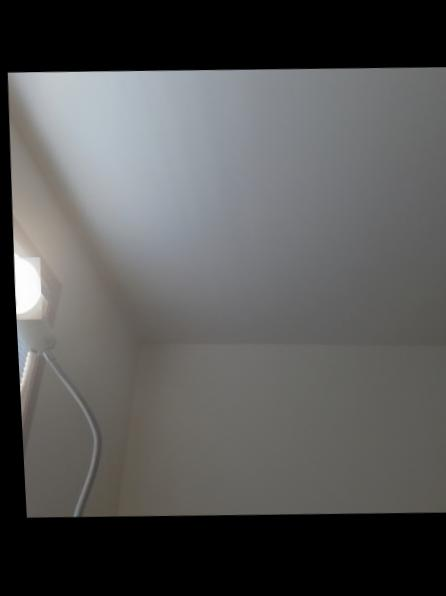TubeLight: (10, 251, 36, 321)
